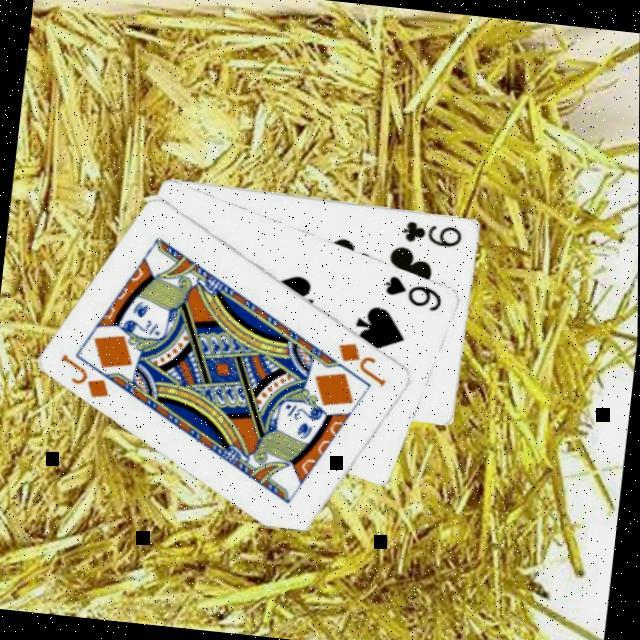6S: (380, 272, 448, 316)
9C: (398, 216, 467, 251)
JD: (55, 350, 118, 403), (332, 338, 394, 390)
